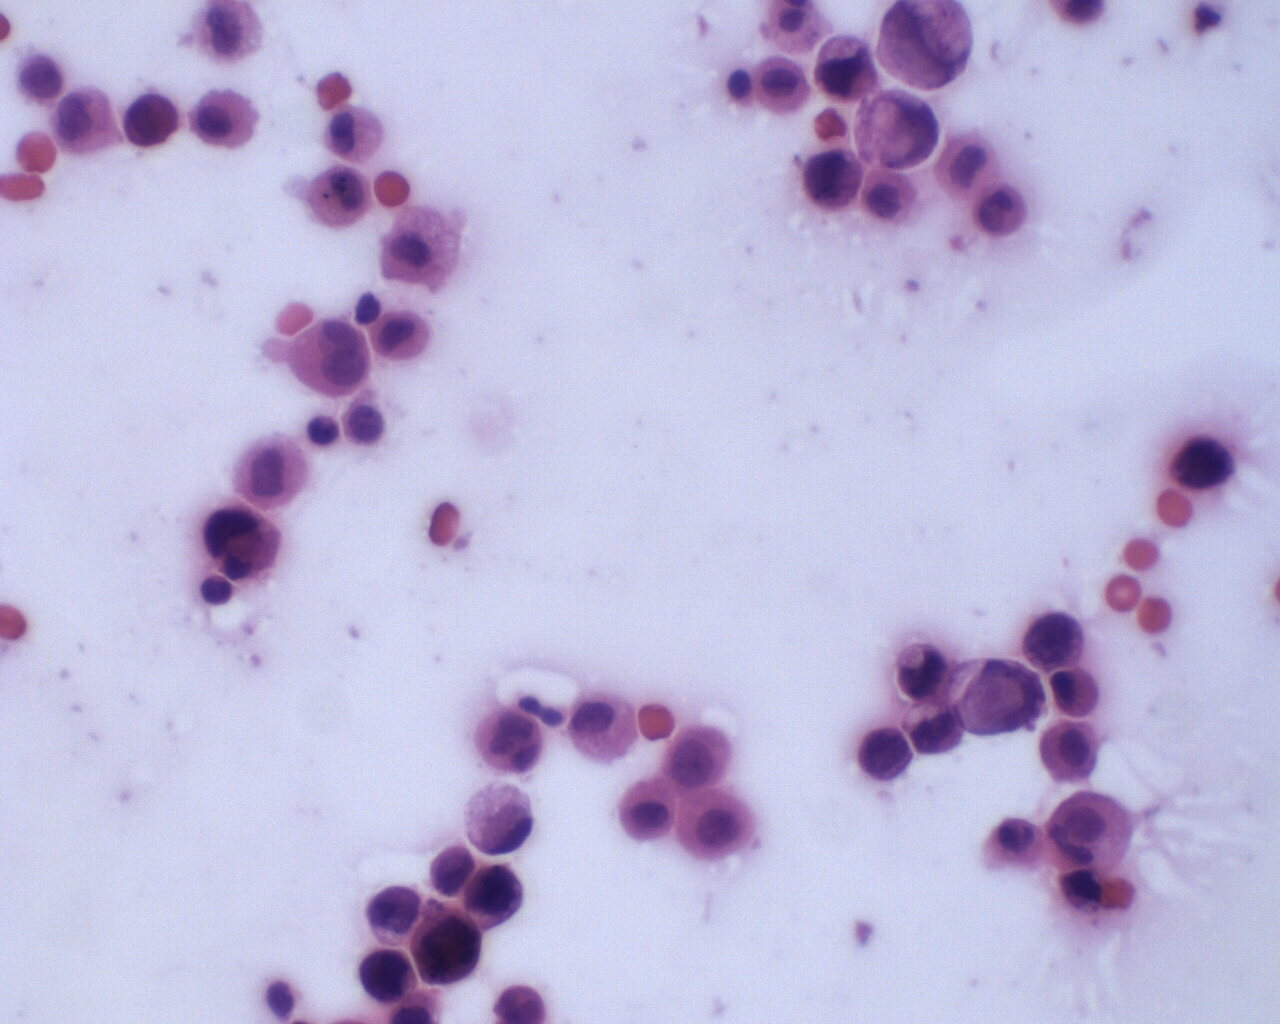ab: (411, 900, 483, 990), (471, 707, 551, 778), (814, 33, 884, 107), (466, 860, 527, 933), (802, 143, 864, 214), (1024, 605, 1089, 670), (1172, 433, 1237, 493), (122, 90, 186, 150), (358, 947, 418, 1006), (856, 726, 916, 784), (894, 641, 951, 700), (365, 883, 421, 934), (427, 844, 475, 900), (17, 49, 65, 102)
lymph: (201, 572, 235, 611)
meso: (675, 781, 757, 870), (569, 690, 639, 762), (307, 161, 376, 232), (191, 84, 259, 152), (615, 776, 681, 846), (1039, 718, 1103, 788), (754, 54, 811, 113)
